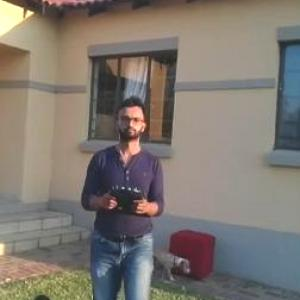follow: (74, 90, 170, 299)
null: (150, 240, 193, 284)
